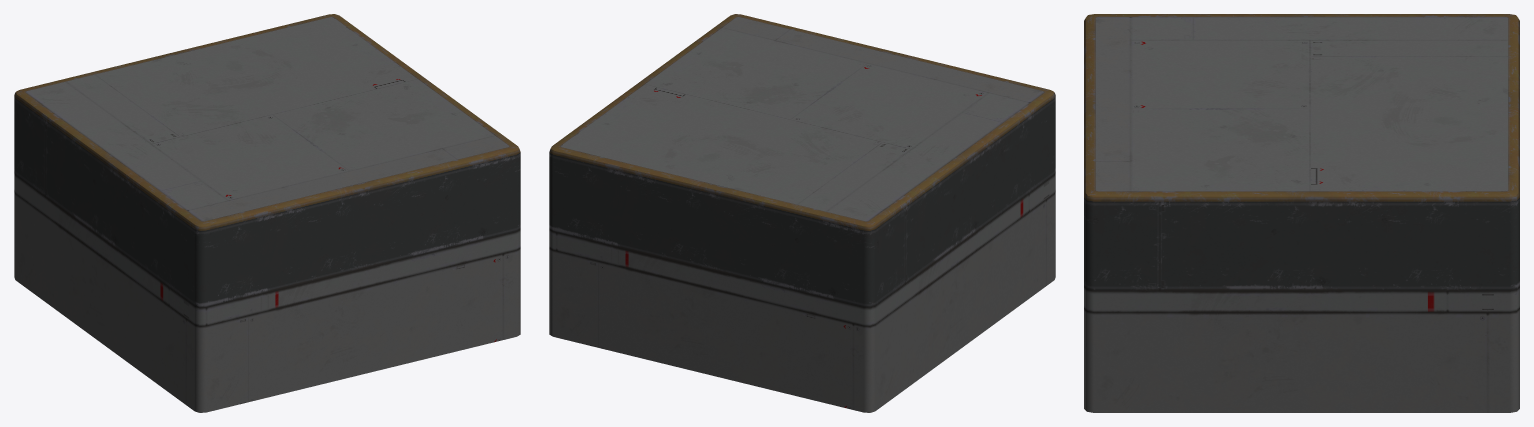
File: Antenna_06_Base.fbx
3 renders of one model, left to right at view 1: azimuth 30°, elevation 25°; view 2: azimuth 150°, elevation 25°; view 3: azimuth 270°, elevation 25°, orthographic. The views are drawn at different scales.
Visible parts, largest first — view 1: pCube17; view 2: pCube17; view 3: pCube17.
Boxes of the visible parts, left/top/right/bottom form: pCube17: left=14, top=14, right=520, bottom=412; pCube17: left=549, top=14, right=1055, bottom=412; pCube17: left=1084, top=14, right=1519, bottom=412.
Size of the model in its own units: 224 by 123 by 224.
